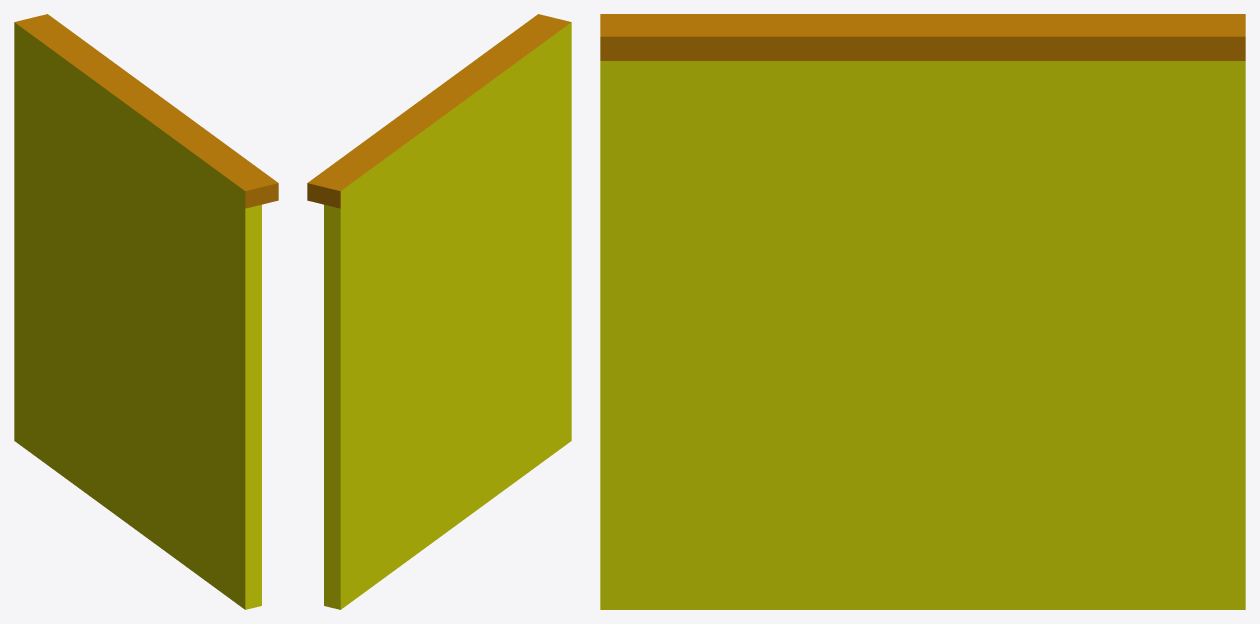
The model's file is Mesh_Wall_a01.fbx.
3 renders of one model, left to right at view 1: azimuth 30°, elevation 25°; view 2: azimuth 150°, elevation 25°; view 3: azimuth 270°, elevation 25°, orthographic. The views are drawn at different scales.
Visible parts, largest first — view 1: Wall_a01; view 2: Wall_a01; view 3: Wall_a01.
Boxes of the visible parts, x1=… form: Wall_a01: x1=14, y1=14, x2=278, y2=609; Wall_a01: x1=307, y1=14, x2=571, y2=609; Wall_a01: x1=600, y1=14, x2=1245, y2=609.
Size of the model in its own units: 2 by 24 by 24.
